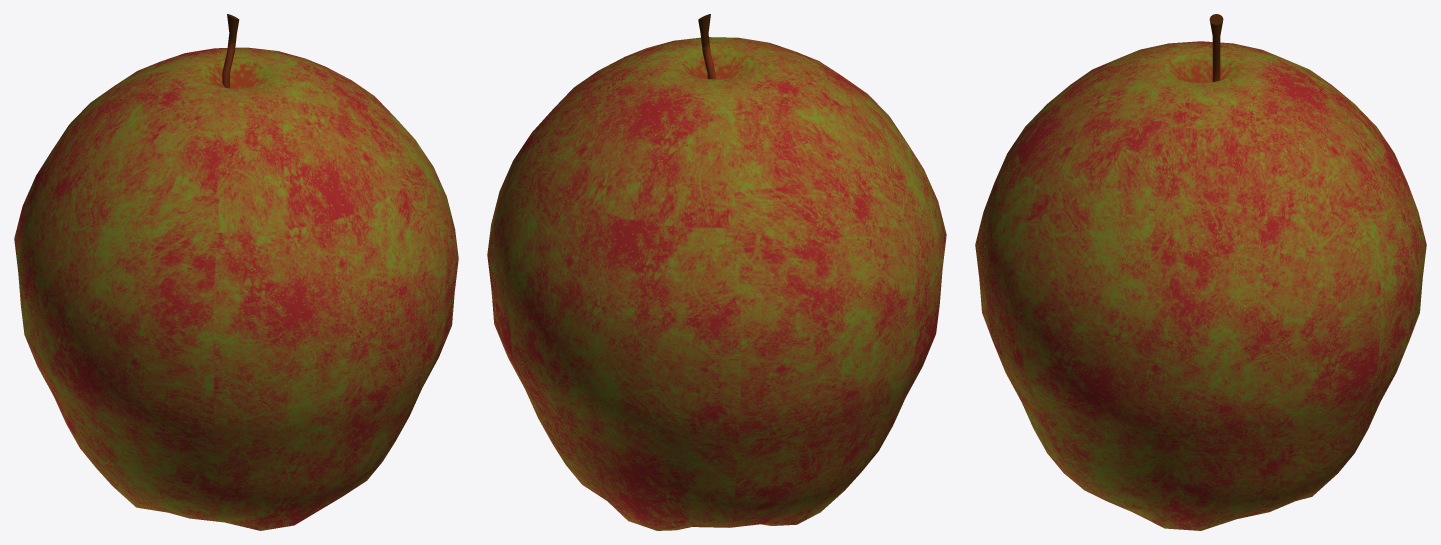
File: apple.fbx
3 views of the same model, side by side, from view 1: azimuth 30°, elevation 25°; view 2: azimuth 150°, elevation 25°; view 3: azimuth 270°, elevation 25° (orthographic). The views are drawn at different scales.
Visible parts, largest first — view 1: pasted__pCylinder2; view 2: pasted__pCylinder2; view 3: pasted__pCylinder2.
Part boxes in pixels (x1,y1,x2,y2): pasted__pCylinder2: (14, 14, 458, 530); pasted__pCylinder2: (487, 14, 946, 530); pasted__pCylinder2: (975, 14, 1426, 530).
Size of the model in its own units: 22.48 by 26.82 by 22.48.
